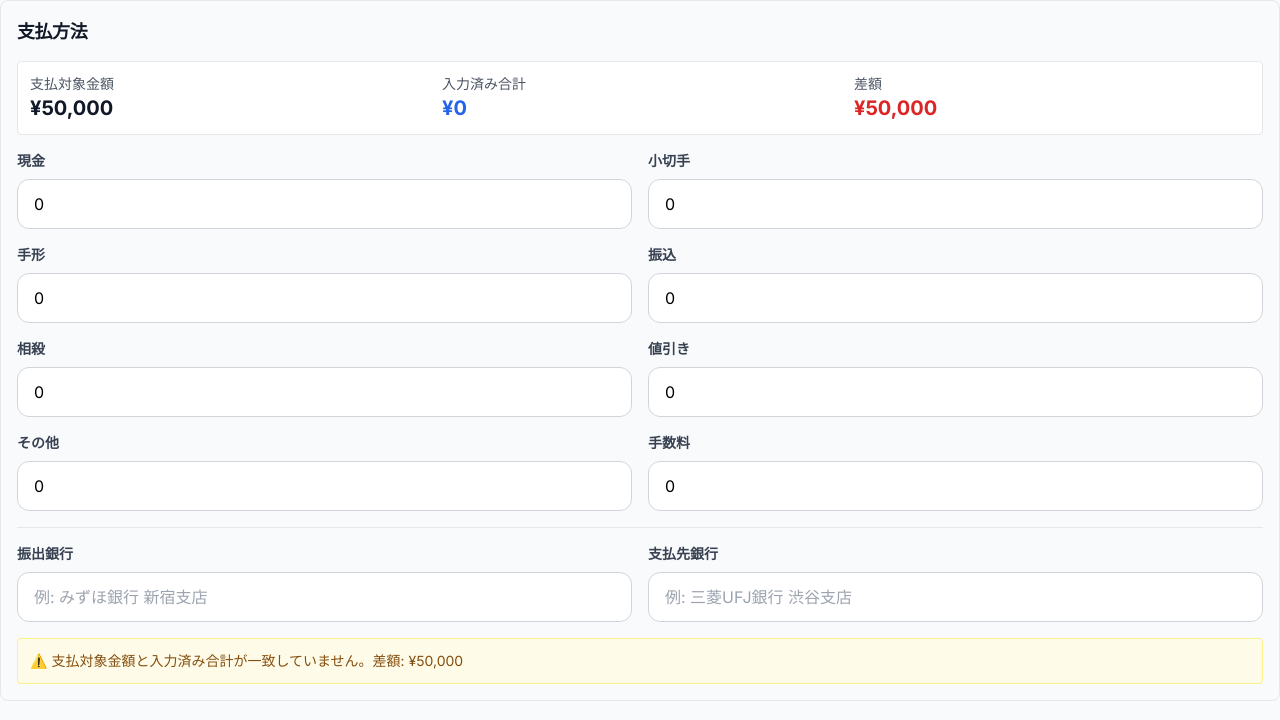
it: PaymentMethodInput › リアルタイム計算 › 単一の支払方法入力時に合計が計算される
Type "30000" into the number field with placeholder "0" below "現金".
click(324, 204); type("30000")  # box [17,179,632,229]
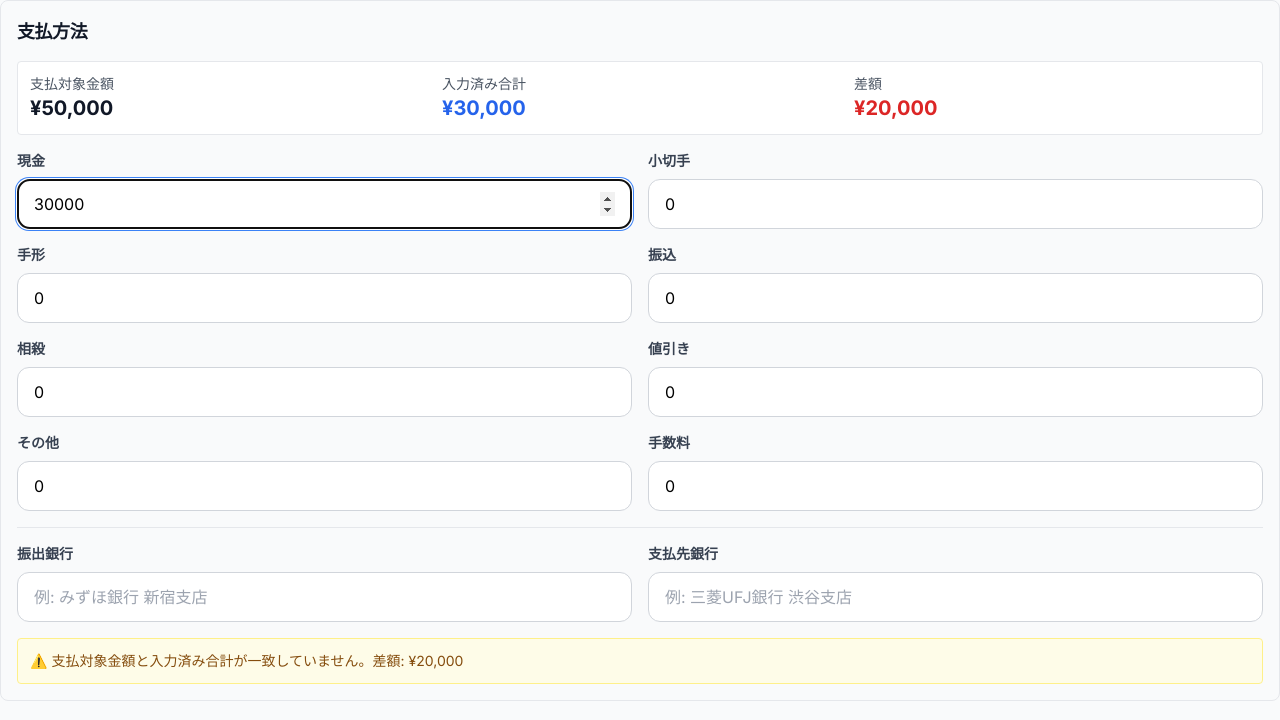
Expected: the text "¥30,000" is shown, [442,96,526,120]
